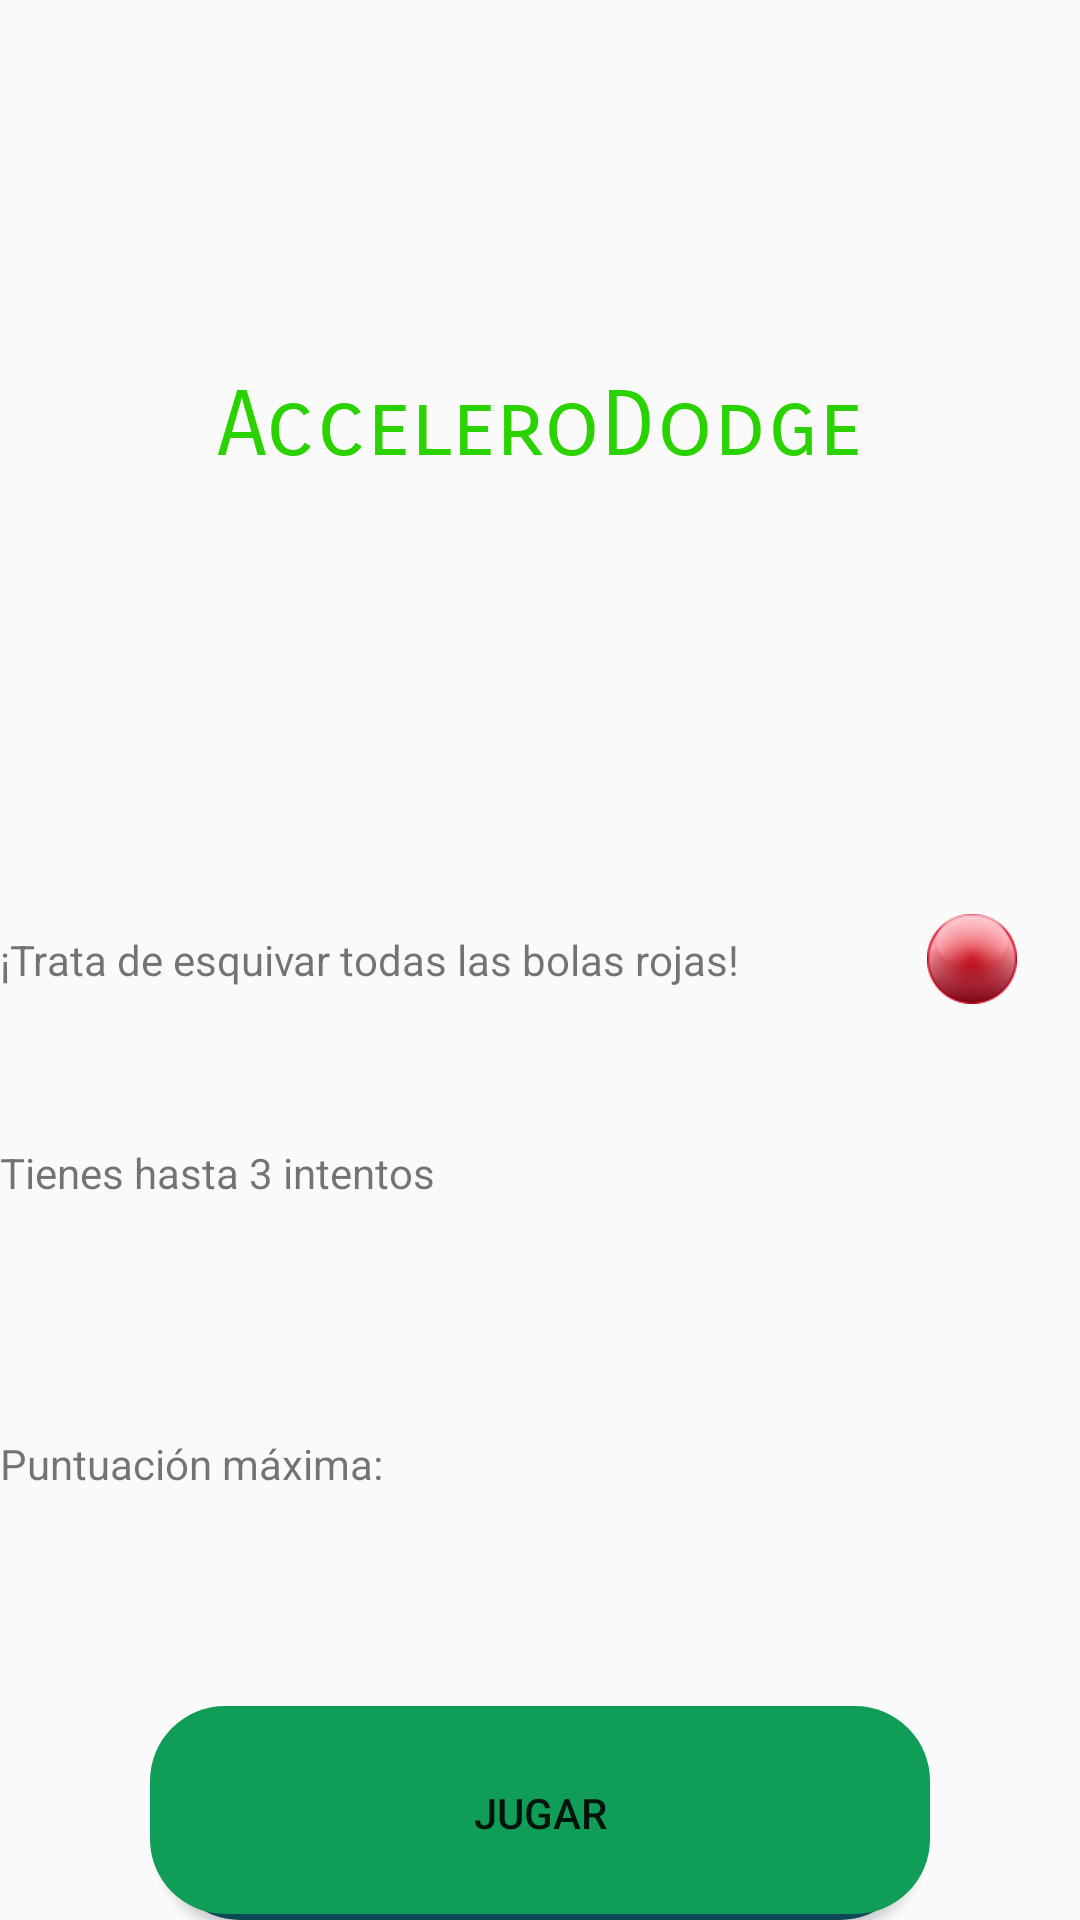

Locate icon controls on the screen. Image size 1080px x 1920px, boxes as [x1=x1, y1=y1, x2=x2, y2=y2].
enemyball: [x1=927, y1=914, x2=1017, y2=1004]
